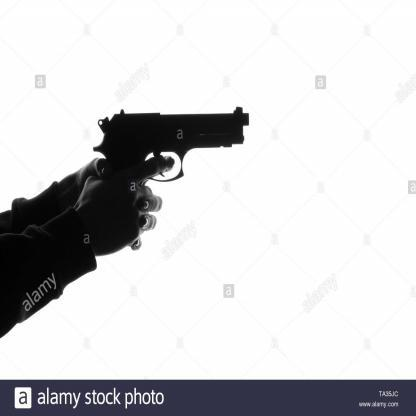Pistol: (98, 103, 250, 184)
